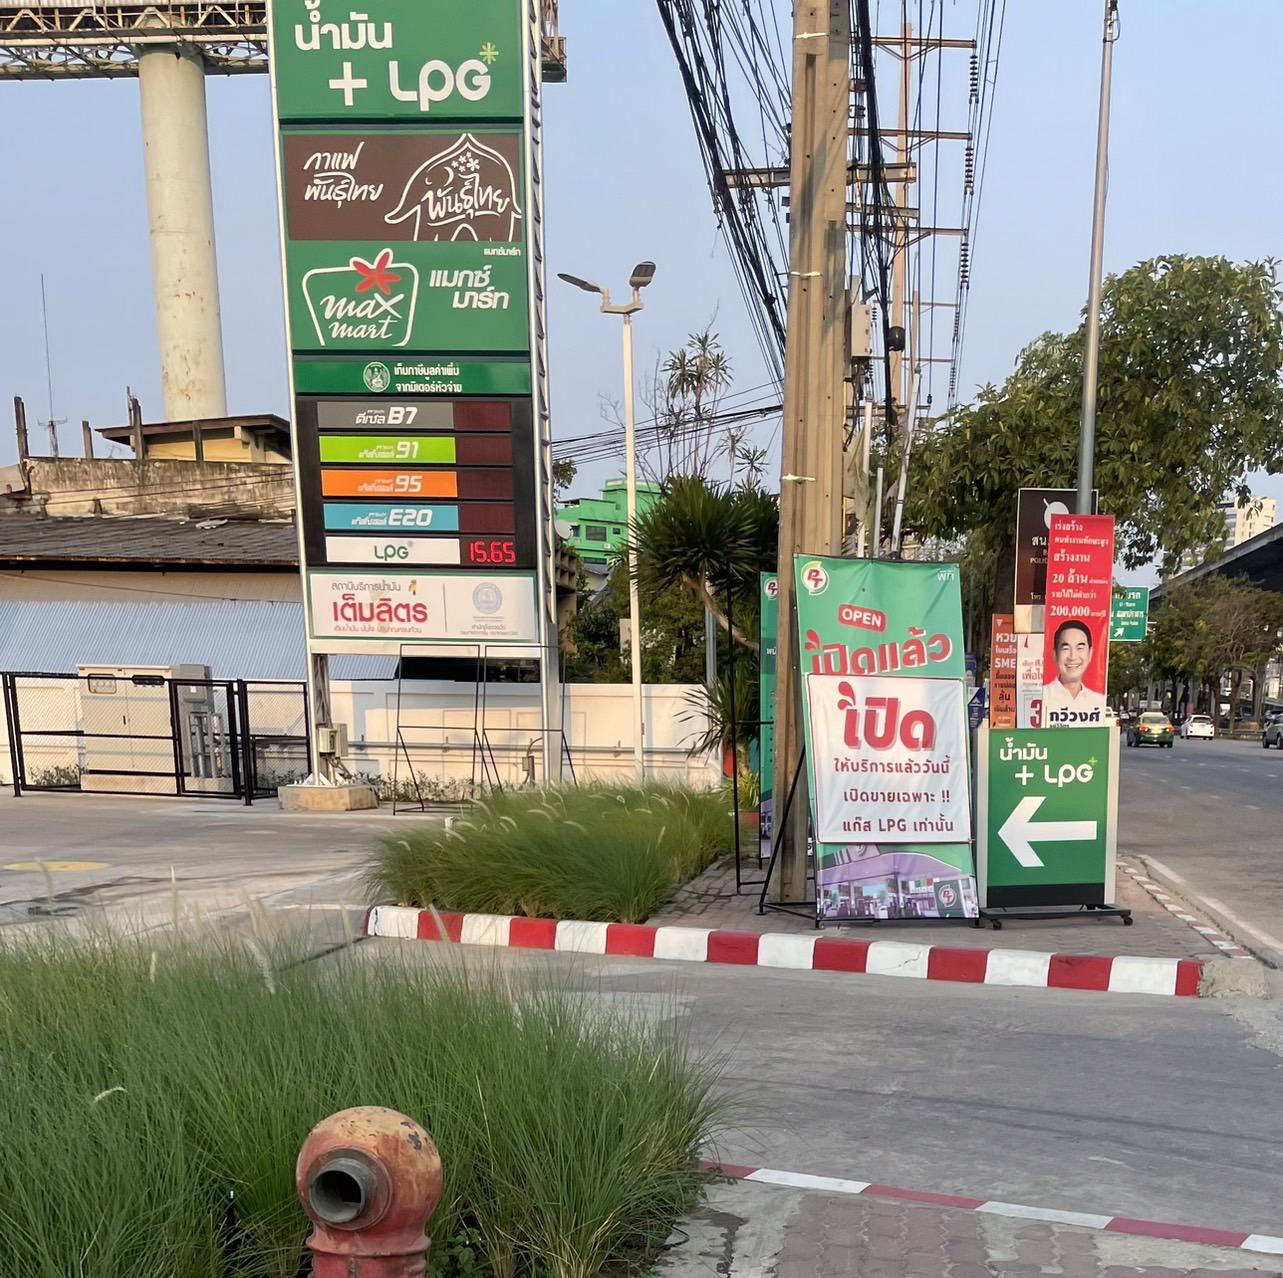Banner: (1043, 509, 1118, 738)
